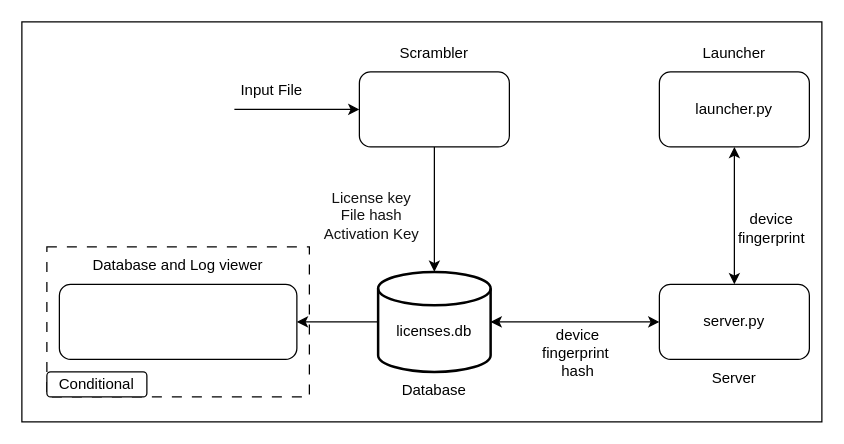
The diagram is 844 pixels wide and 444 high, and some of its shapes have lost their labels. The shapes that lost their labels are listed below. From the top down, each one's centre as x and y in pixels, then its label:
(433,109): auto_gen.py
(177,321): db_check.py
